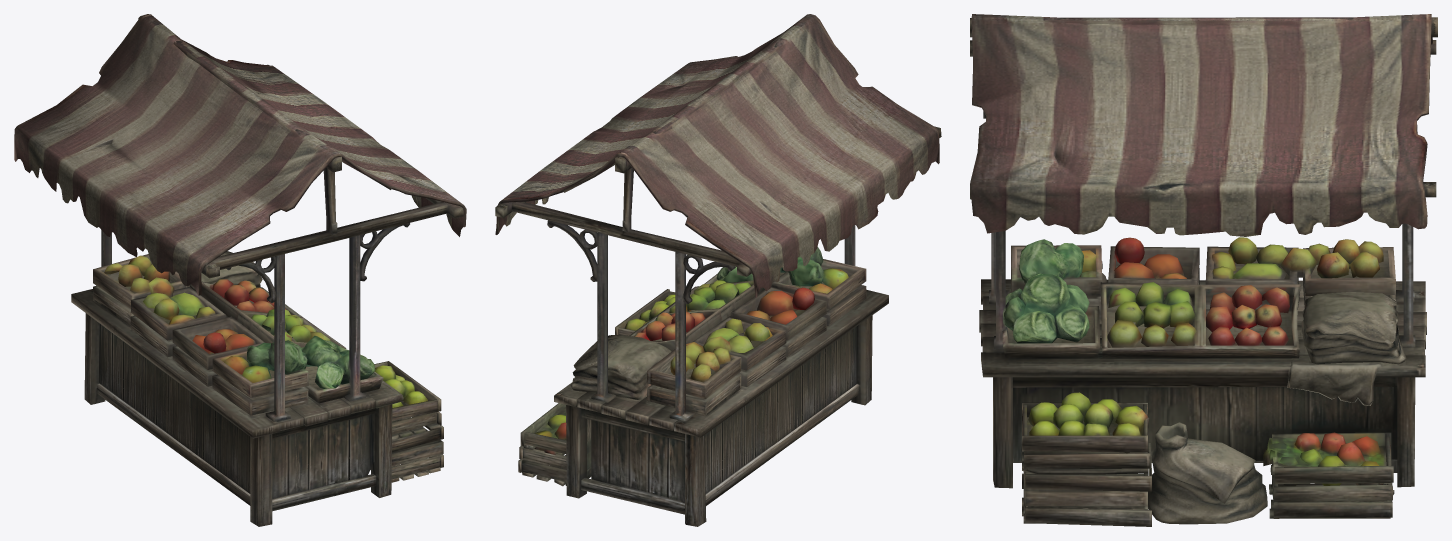
Rendered from SM_Env_SohoMarketStall.fbx.
3 views of the same model, side by side, from view 1: azimuth 30°, elevation 25°; view 2: azimuth 150°, elevation 25°; view 3: azimuth 270°, elevation 25° (orthographic). The views are drawn at different scales.
Parts seen in each view (by area): view 1: SM_Env_SohoMarketStall; view 2: SM_Env_SohoMarketStall; view 3: SM_Env_SohoMarketStall.
Part boxes in pixels (x1,y1,x2,y2): SM_Env_SohoMarketStall: (14, 14, 466, 526); SM_Env_SohoMarketStall: (495, 14, 941, 526); SM_Env_SohoMarketStall: (970, 14, 1437, 526).
Size of the model in its own units: 55.12 by 70.17 by 72.
Materials: 1 (1 with a texture image).
